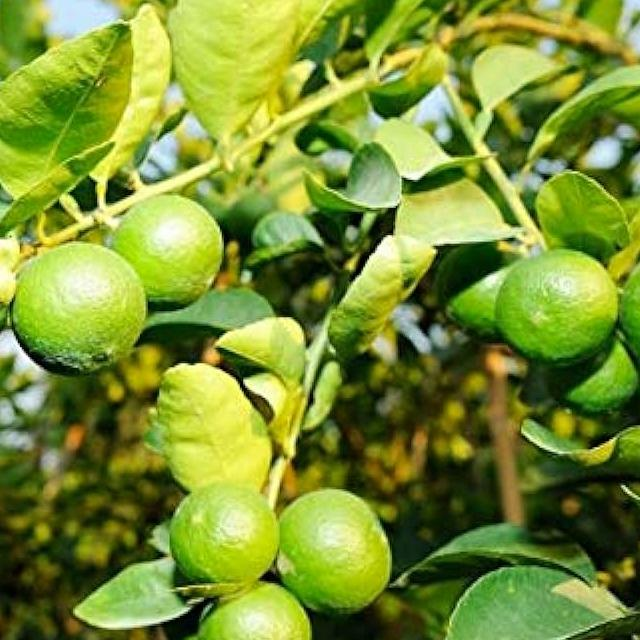lime: (12, 243, 150, 374), (273, 490, 394, 616), (496, 252, 617, 367), (107, 195, 224, 308), (167, 485, 279, 599), (439, 249, 527, 340), (198, 585, 315, 640)
